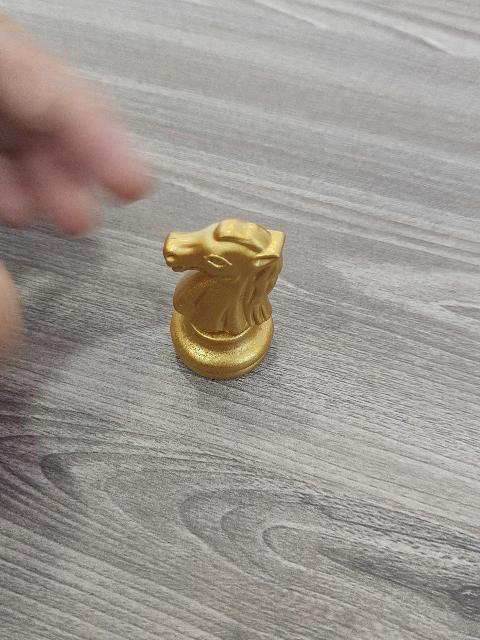black_knight: (159, 215, 290, 381)
